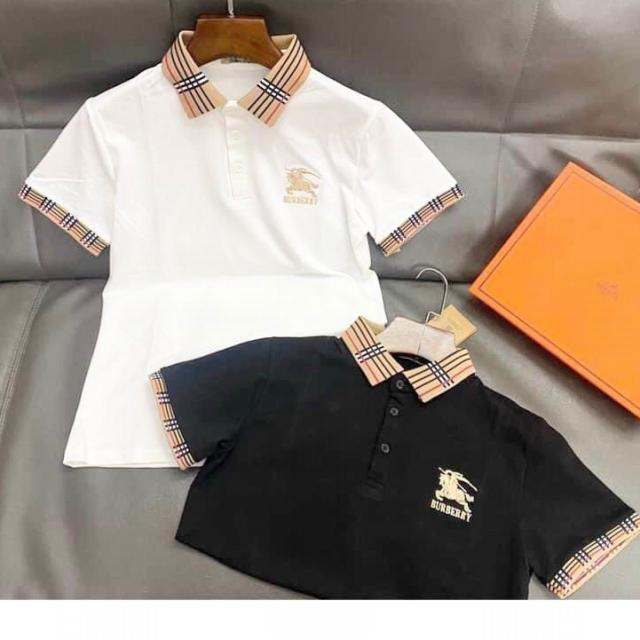Shirt: (20, 32, 458, 470), (142, 318, 636, 602)
